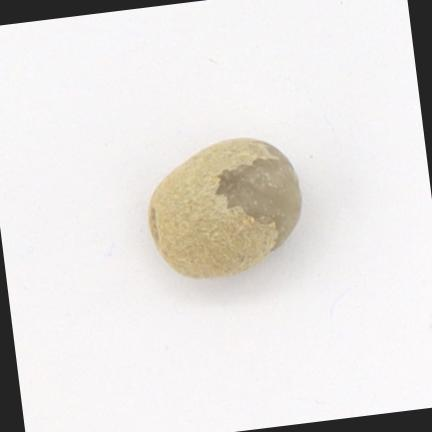husk: (149, 138, 301, 276)
